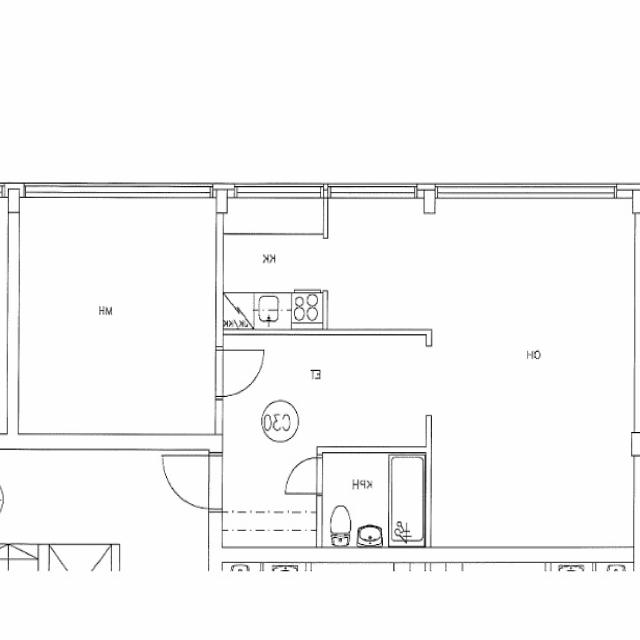door: (161, 454, 222, 510), (215, 349, 264, 396), (285, 458, 322, 494)
